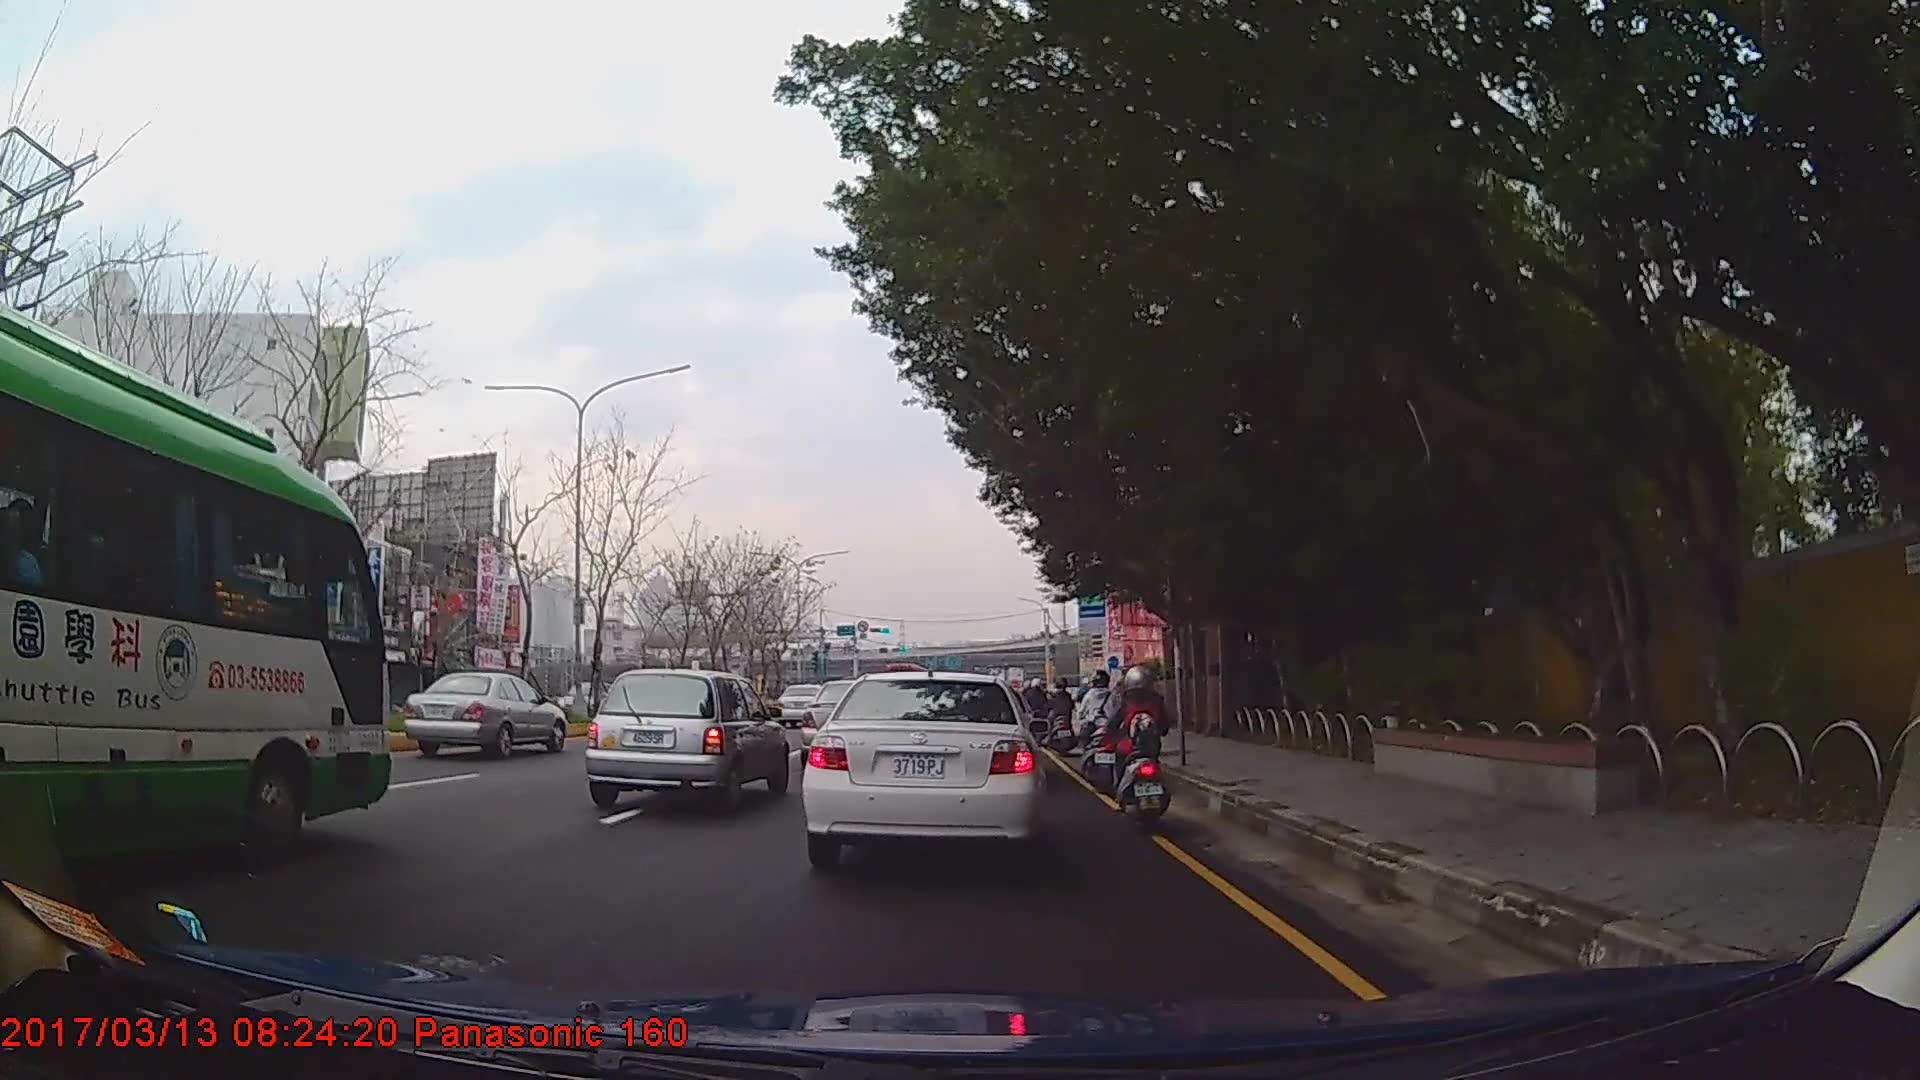rider: (1104, 661, 1164, 820), (1078, 669, 1121, 789), (1048, 679, 1076, 746)
vehicle: (0, 300, 393, 884), (798, 671, 1044, 863), (582, 667, 790, 811), (403, 670, 563, 763), (776, 682, 831, 727)
